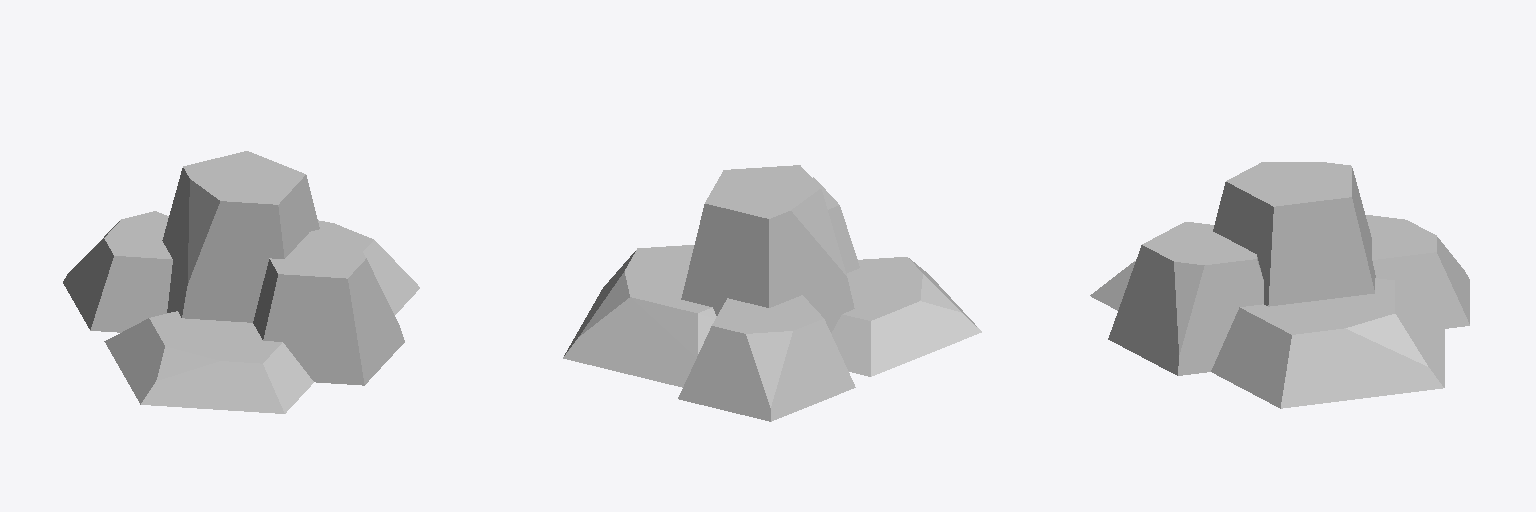
The model's file is sakura_tile_rock.obj.
3 views of the same model, side by side, from view 1: azimuth 30°, elevation 25°; view 2: azimuth 150°, elevation 25°; view 3: azimuth 270°, elevation 25° (orthographic).
Visible parts, largest first — view 1: rocks; view 2: rocks; view 3: rocks.
Boxes of the visible parts, box(x1,y1,x2,y2) form: rocks: box(63, 151, 419, 413); rocks: box(563, 165, 981, 421); rocks: box(1090, 162, 1469, 408).
Size of the model in its own units: 1 by 0.4186 by 1.